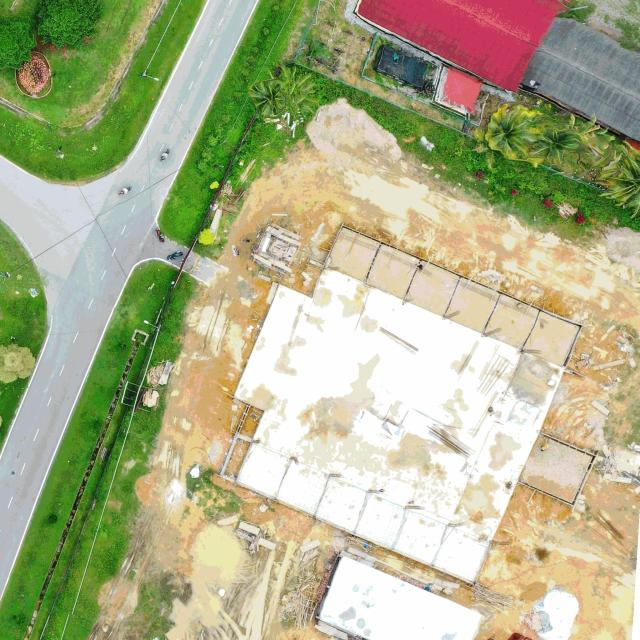Tree: (34, 0, 104, 49), (486, 106, 536, 160), (0, 15, 38, 70), (0, 343, 38, 384)
